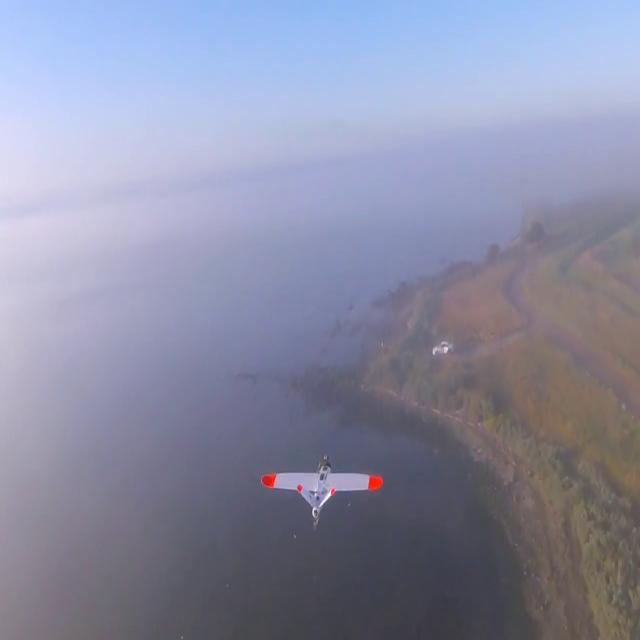iha: (289, 487, 351, 492)
